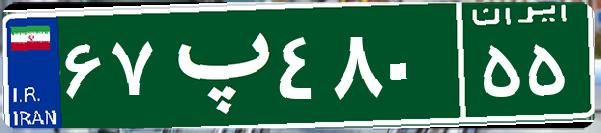0: (385, 28, 445, 110)
4: (273, 28, 330, 110)
5: (475, 38, 525, 113), (525, 38, 570, 115)
6: (57, 26, 110, 107)
7: (110, 28, 158, 105)
8: (330, 28, 385, 110)
پ: (158, 15, 273, 115)
